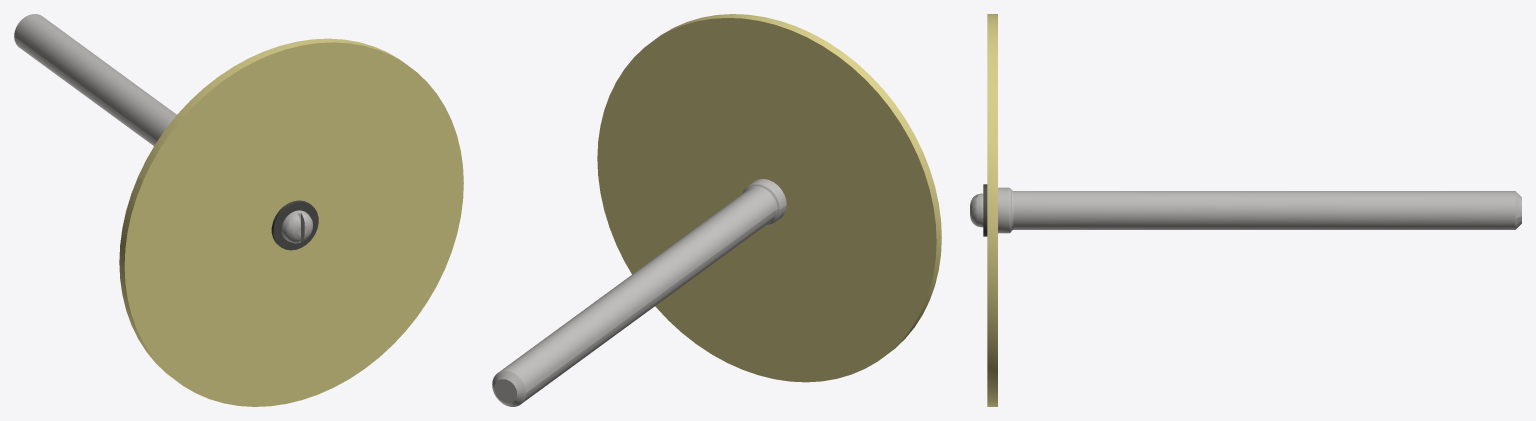
3 views of the same model, side by side, from view 1: azimuth 30°, elevation 25°; view 2: azimuth 150°, elevation 25°; view 3: azimuth 270°, elevation 25° (orthographic).
Bounding box in the file's own units: 30 × 29.97 × 42.12.
